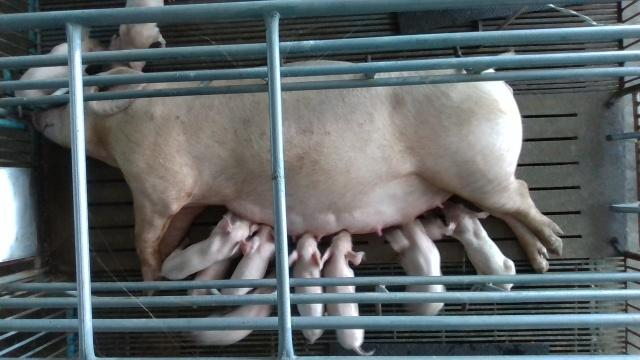piglet: (322, 231, 376, 356), (161, 212, 259, 280), (443, 204, 516, 291), (194, 273, 276, 345), (388, 220, 445, 315), (14, 39, 100, 92), (108, 0, 165, 67), (220, 226, 275, 295), (289, 233, 323, 344)
sow-sleep-lactate: (31, 61, 566, 295)
